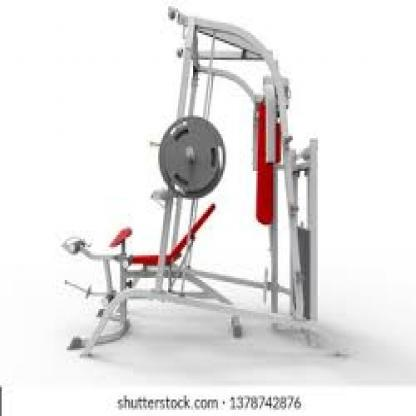smith machine: (63, 5, 318, 361)
